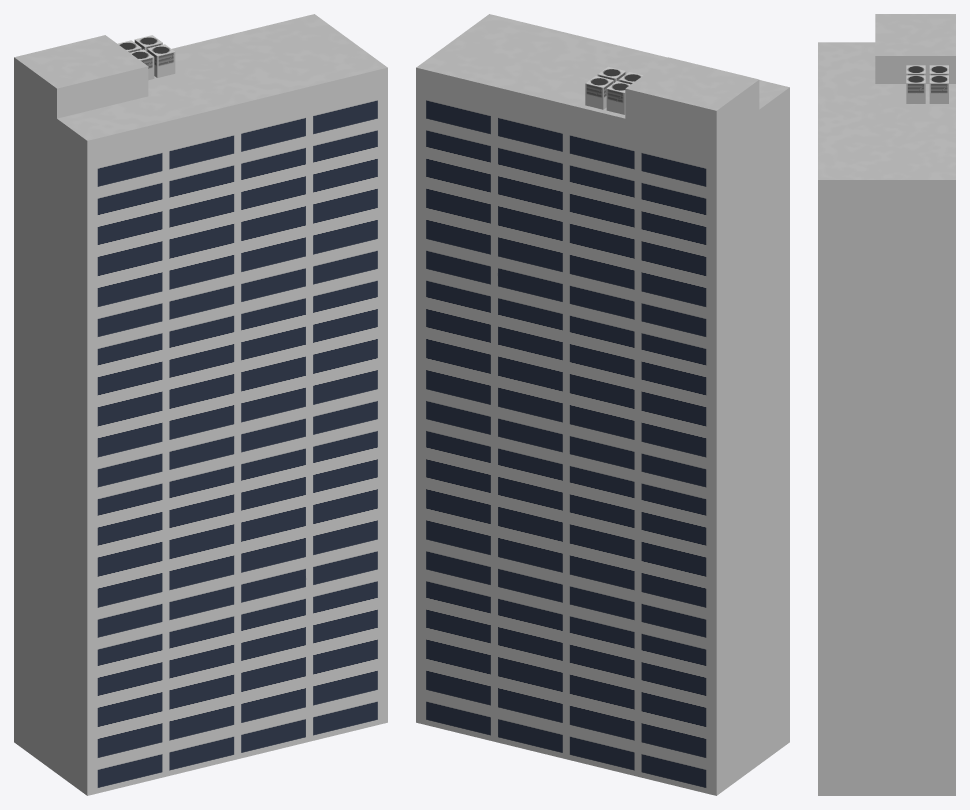
File: Building_M_W6_001.fbx
The picture shows the model from 3 angles, left to right: view 1: azimuth 30°, elevation 25°; view 2: azimuth 150°, elevation 25°; view 3: azimuth 270°, elevation 25°; orthographic projection. The views are drawn at different scales.
Visible parts, largest first — view 1: Building_M_W6_001; view 2: Building_M_W6_001; view 3: Building_M_W6_001.
Boxes of the visible parts, left/top/right/bottom form: Building_M_W6_001: left=14, top=14, right=387, bottom=795; Building_M_W6_001: left=416, top=14, right=789, bottom=795; Building_M_W6_001: left=818, top=14, right=955, bottom=795.
Bounding box in the file's own units: 46.1 × 100 × 19.46.
